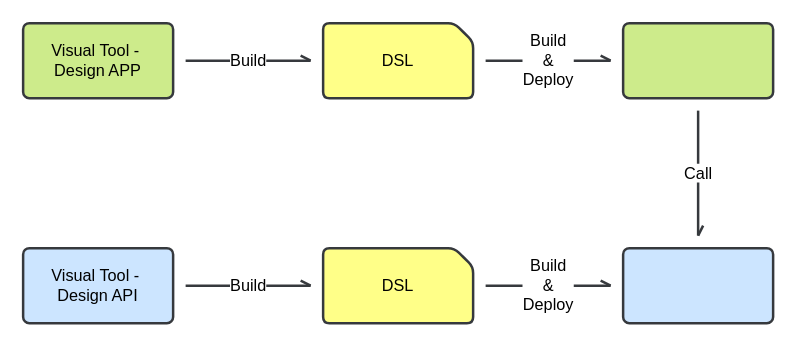
The diagram is 795 pixels wide and 345 high, and some of its shapes have lost their labels. The box of each missing label's shape, as (x1, y1, x2, y2) in pixels:
Backend API: (621, 246, 774, 324)
Frontend APP: (621, 21, 774, 99)
